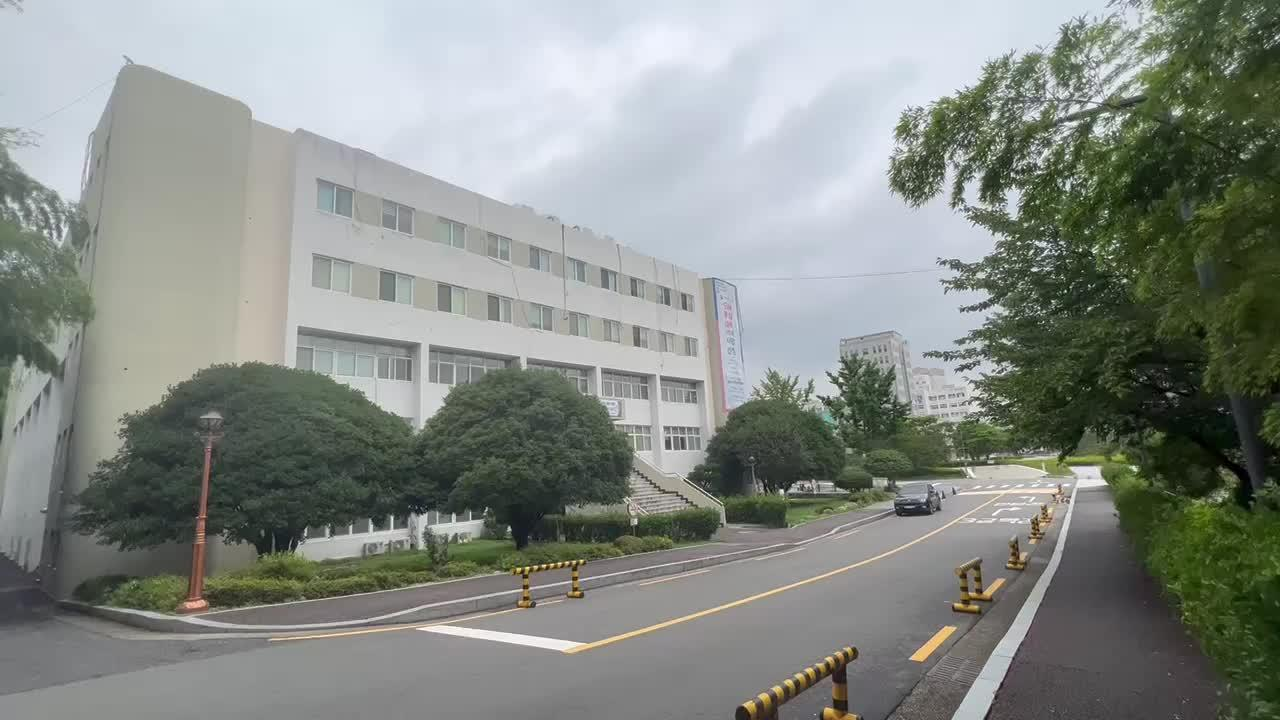building: (113, 98, 757, 376)
